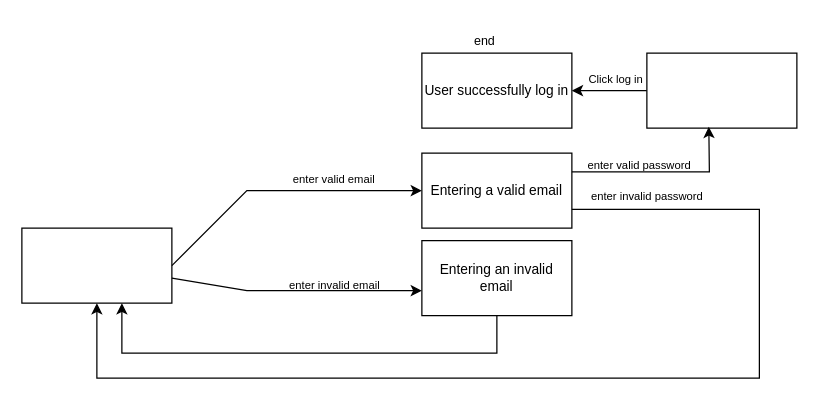
Image size: 819x410. Some labels were removed from this diagram. The centre of each missing label's shape, as x and y in pixels:
"Entering a valid password" goes at point (721, 90).
"Start" goes at point (96, 265).
